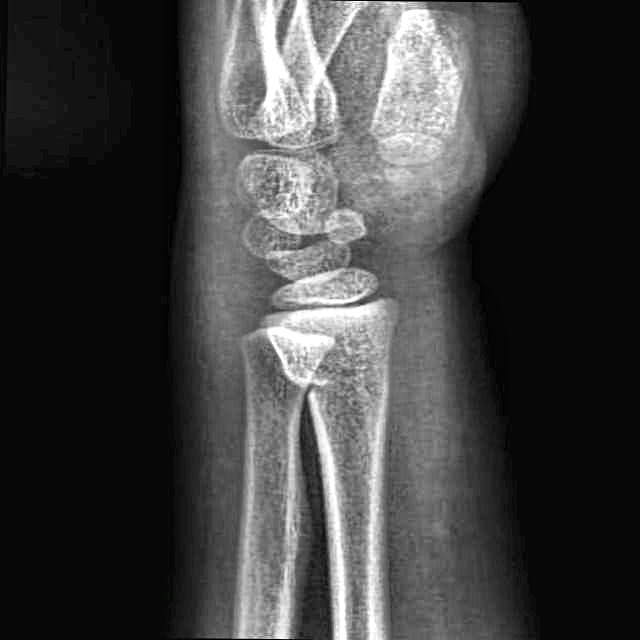Greenstick: (276, 355, 387, 420)
